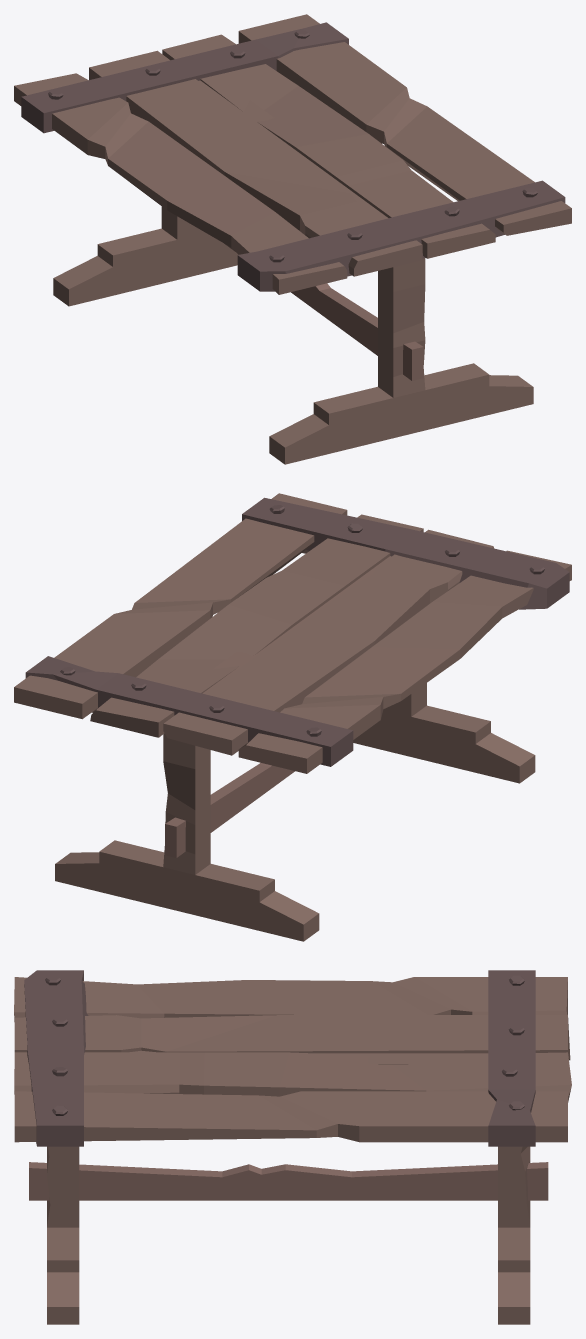
Rendered from Small.glb.
The picture shows the model from 3 angles, top to bottom: view 1: azimuth 30°, elevation 25°; view 2: azimuth 150°, elevation 25°; view 3: azimuth 270°, elevation 25°; orthographic projection. The views are drawn at different scales.
Parts seen in each view (by area): view 1: Table_Small; view 2: Table_Small; view 3: Table_Small.
Boxes of the visible parts, box(x1,y1,x2,y2) form: Table_Small: box(14, 14, 571, 464); Table_Small: box(14, 493, 571, 941); Table_Small: box(14, 970, 571, 1324).
Size of the model in its own units: 0.9134 by 0.5978 by 1.39.
